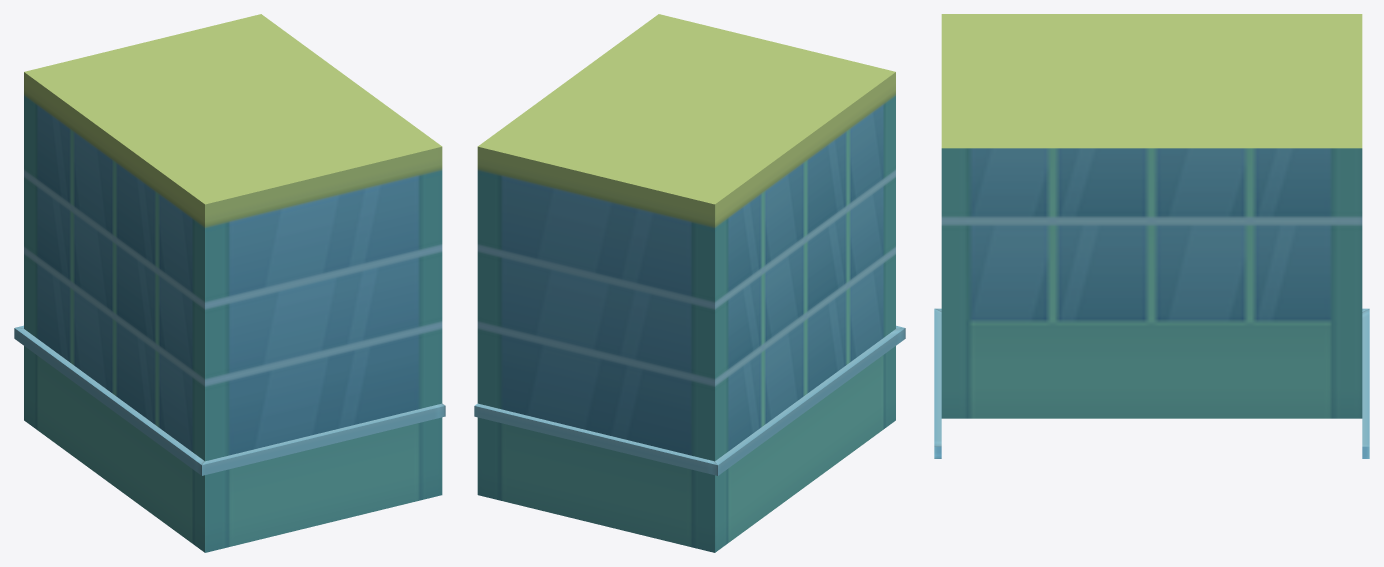
The model's file is Common_Building_05.fbx.
3 renders of one model, left to right at view 1: azimuth 30°, elevation 25°; view 2: azimuth 150°, elevation 25°; view 3: azimuth 270°, elevation 25°, orthographic. The views are drawn at different scales.
Parts seen in each view (by area): view 1: Common_Building_05; view 2: Common_Building_05; view 3: Common_Building_05.
Boxes of the visible parts, x1,y1,x2,y2 form: Common_Building_05: [14, 14, 445, 552]; Common_Building_05: [474, 14, 905, 552]; Common_Building_05: [934, 14, 1369, 458].
Size of the model in its own units: 3000 by 4100 by 4000.
